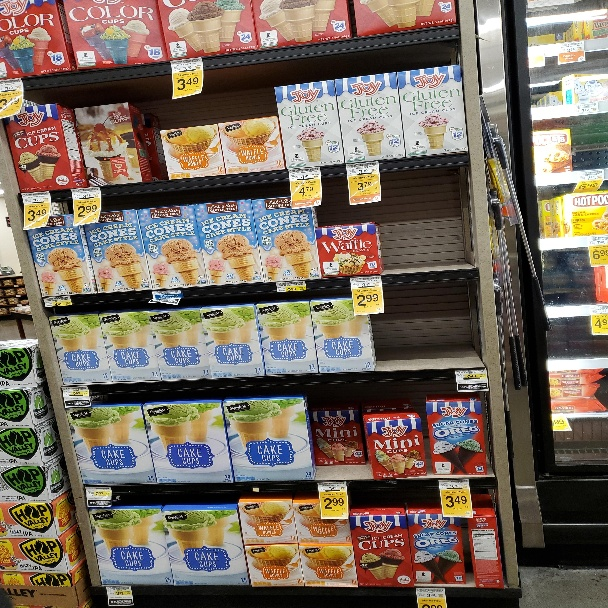All PRICE TAGS: (345, 162, 379, 174), (289, 167, 321, 179), (170, 59, 201, 71), (457, 369, 487, 380), (416, 587, 445, 598), (350, 278, 381, 288), (276, 281, 306, 291), (22, 192, 49, 203), (72, 188, 101, 198), (44, 296, 70, 307), (62, 386, 87, 397), (439, 479, 469, 488), (558, 42, 585, 52), (317, 482, 346, 491), (106, 586, 132, 596), (0, 81, 23, 92), (578, 171, 604, 180), (574, 104, 600, 113), (211, 368, 236, 377), (87, 488, 111, 497), (587, 236, 608, 245), (155, 475, 176, 483), (590, 305, 608, 314)
